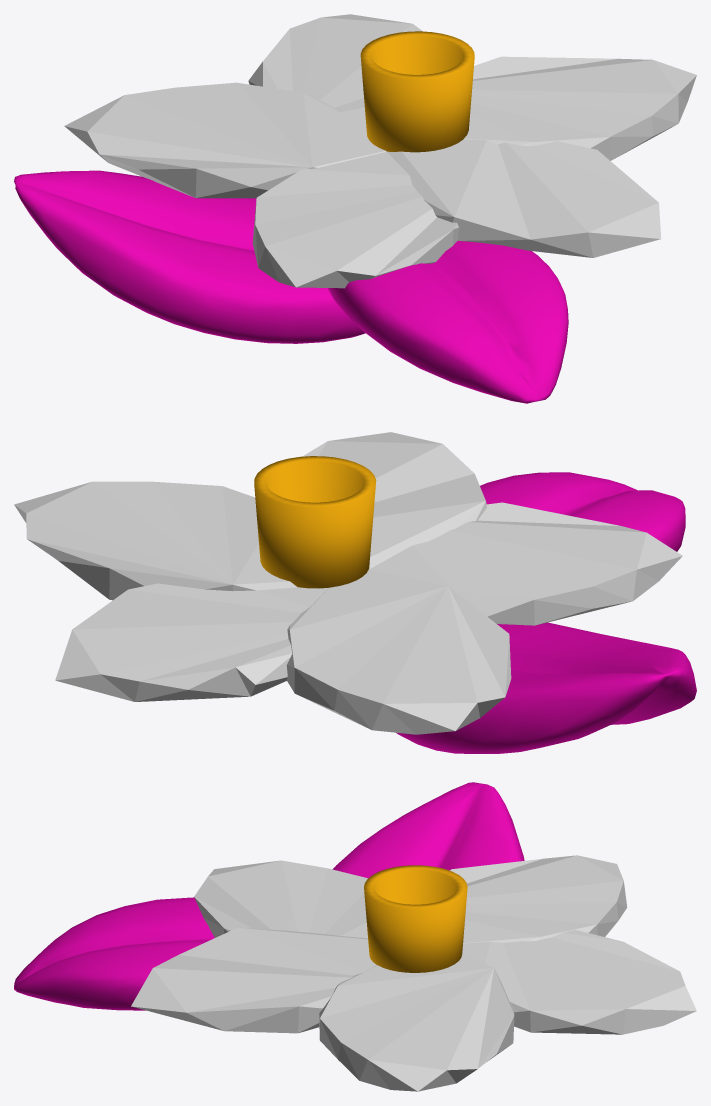
File: Vanille.fbx
3 views of the same model, one above another, from view 1: azimuth 30°, elevation 25°; view 2: azimuth 150°, elevation 25°; view 3: azimuth 270°, elevation 25° (orthographic). The views are drawn at different scales.
Visible parts, largest first — view 1: Cylinder.001; view 2: Cylinder.001; view 3: Cylinder.001.
Part boxes in pixels (left/top/right/bottom): Cylinder.001: left=14, top=14, right=696, bottom=403; Cylinder.001: left=14, top=432, right=696, bottom=753; Cylinder.001: left=14, top=782, right=696, bottom=1091.
Size of the model in its own units: 73.56 by 21.37 by 73.73.
